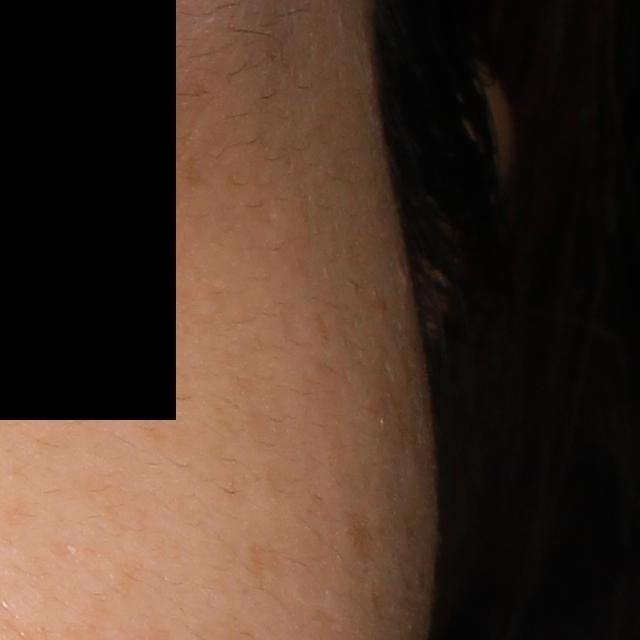melasma: (241, 537, 287, 595), (343, 511, 378, 561)
